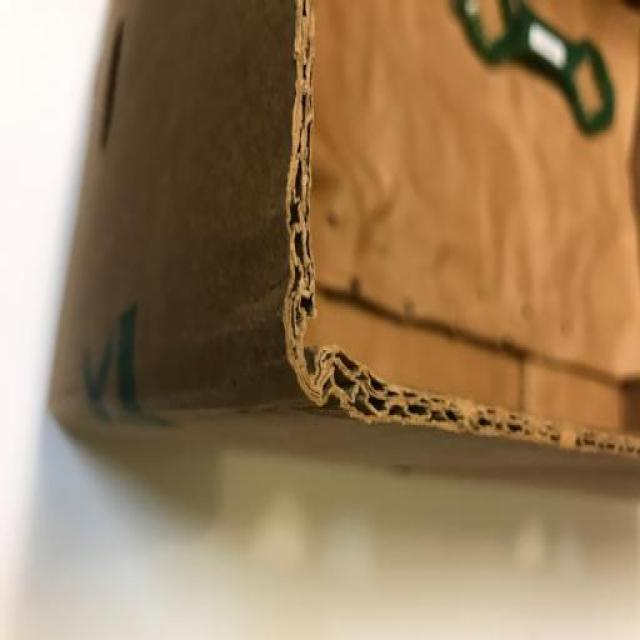cardboard: (45, 0, 640, 465)
